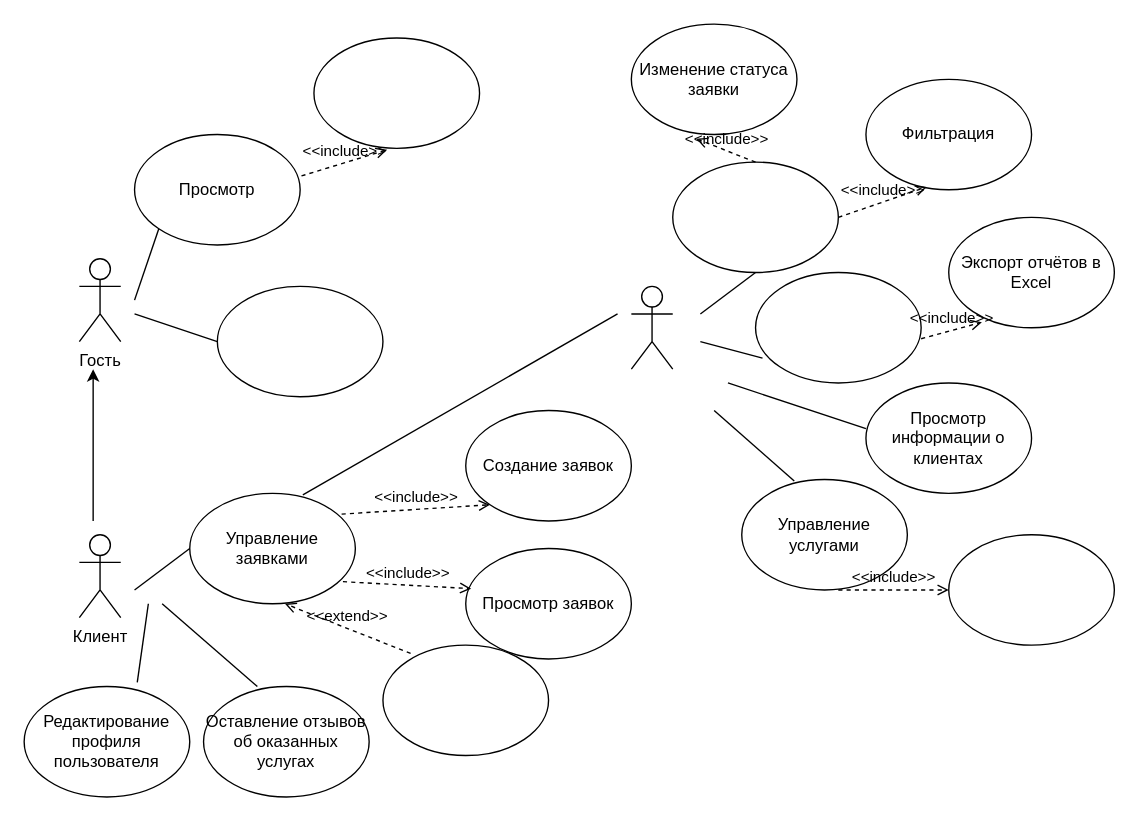
The diagram is 1139 pixels wide and 821 high, and some of its shapes have lost their labels. The centre of each missing label's shape, as x and y in pixels:
"Администратор" goes at point 651,327.
"Отслеживание статуса заявок" goes at point 465,700.
"Просмотр всех заявок" goes at point 754,217.
"Просмотр информации об услугах" goes at point 396,92.
"Регистрация" goes at point 299,341.
"Редактирование услуг" goes at point 1030,589.
"Управление отчётами" goes at point 837,327.
